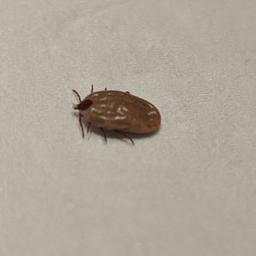Rhipicephalus sanguineus: (70, 84, 161, 146)
